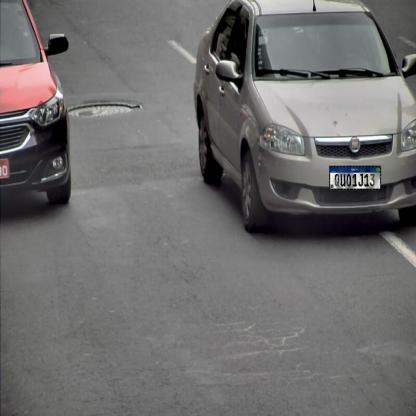PlacaM: (329, 166, 381, 190)
